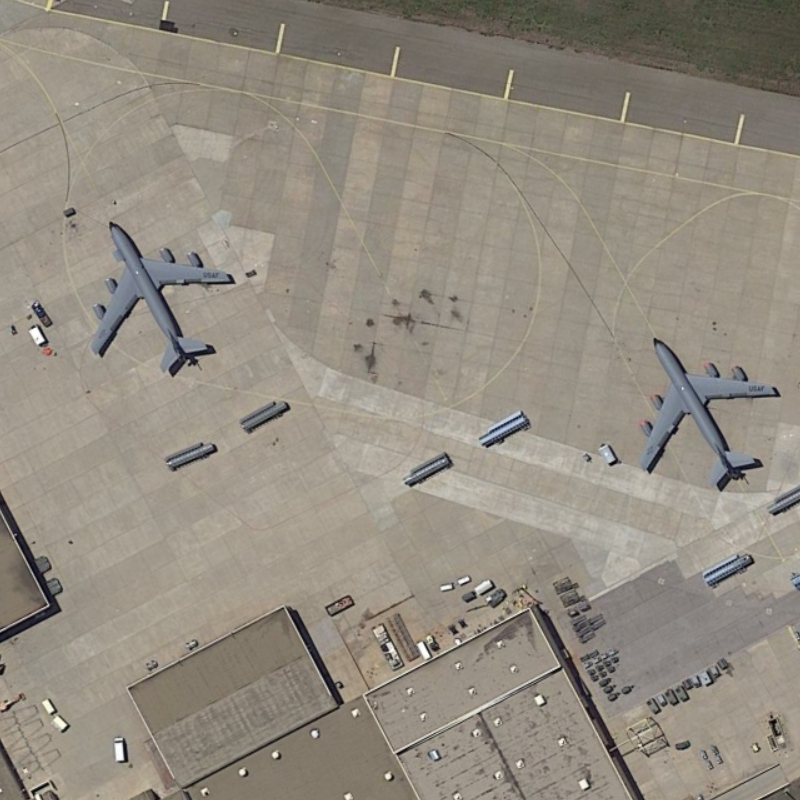A14: (87, 211, 248, 381), (635, 332, 782, 492)
